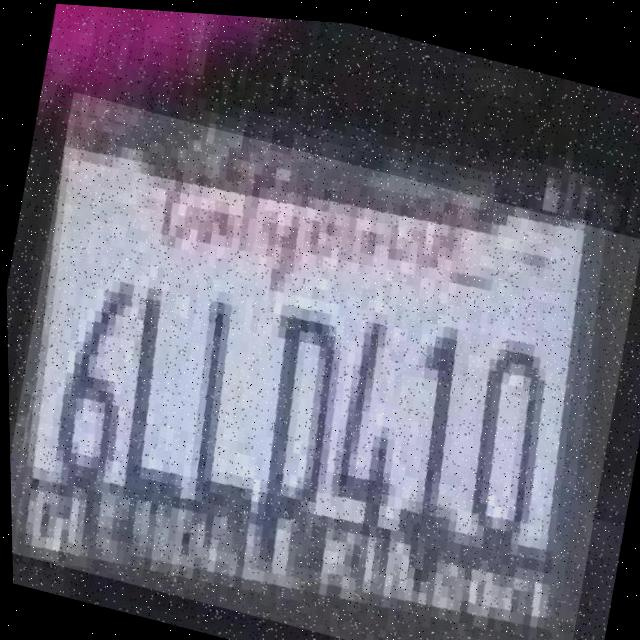LicensePlate: (2, 87, 640, 640)
